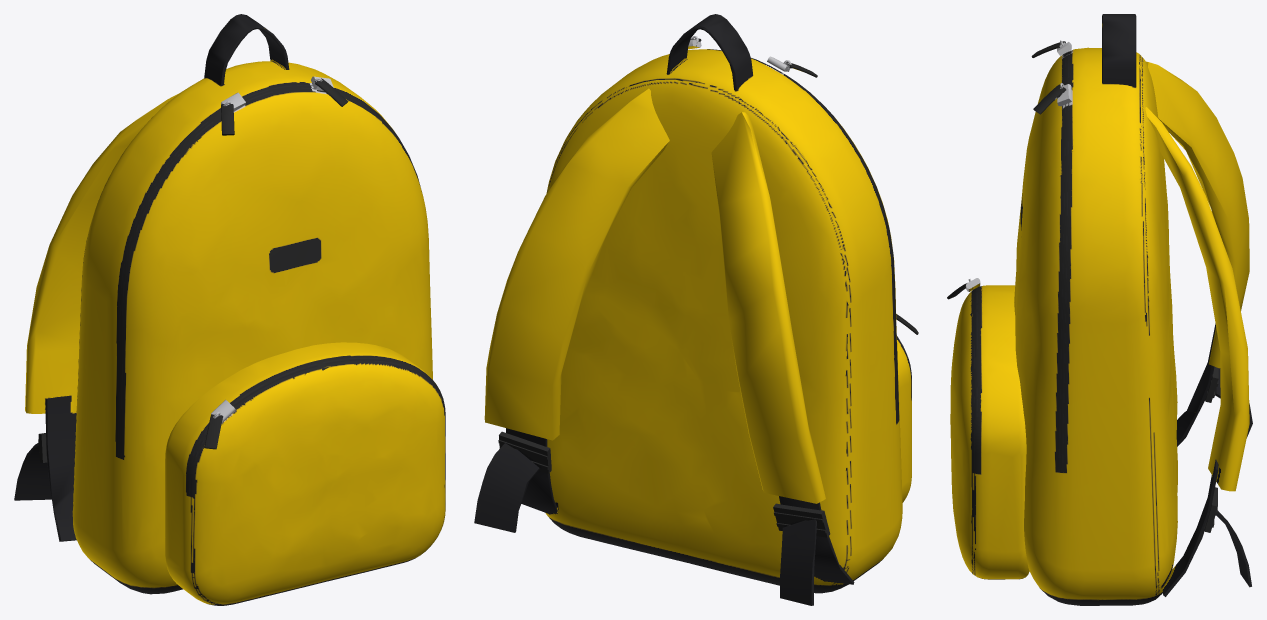
Rendered from Backpack.glb.
3 renders of one model, left to right at view 1: azimuth 30°, elevation 25°; view 2: azimuth 150°, elevation 25°; view 3: azimuth 270°, elevation 25°, orthographic.
Parts seen in each view (by area): view 1: SM_Backpack; view 2: SM_Backpack; view 3: SM_Backpack.
Boxes of the visible parts, bbox=[...] form: SM_Backpack: bbox=[14, 14, 445, 605]; SM_Backpack: bbox=[474, 14, 918, 605]; SM_Backpack: bbox=[947, 14, 1252, 605].
Size of the model in its own units: 0.321 by 0.4828 by 0.2527.
1 material, 1 textured.
